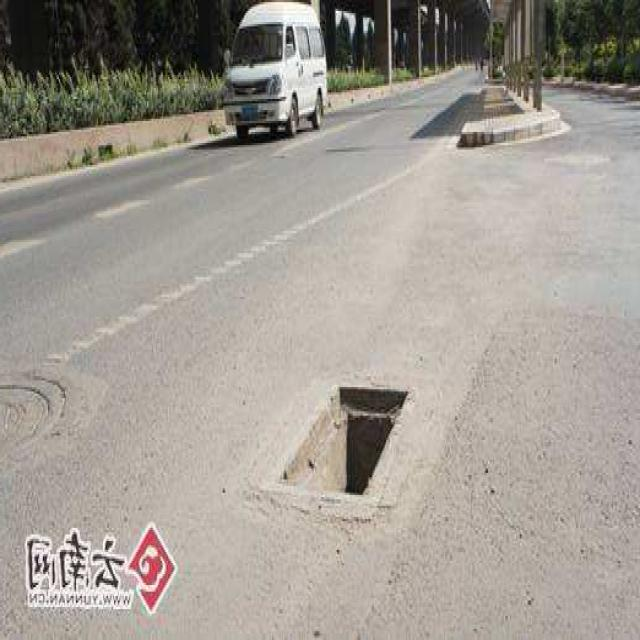manhole-cover: (280, 361, 412, 520)
